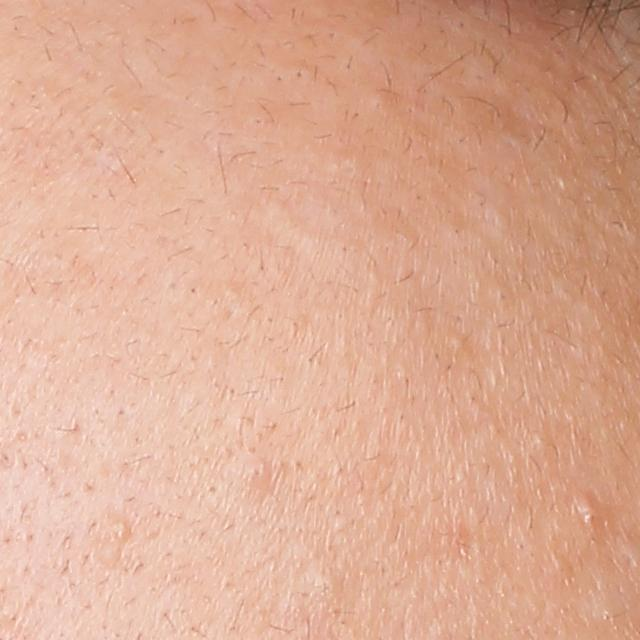comedo: (99, 517, 132, 548), (312, 568, 341, 594), (445, 332, 468, 358)
